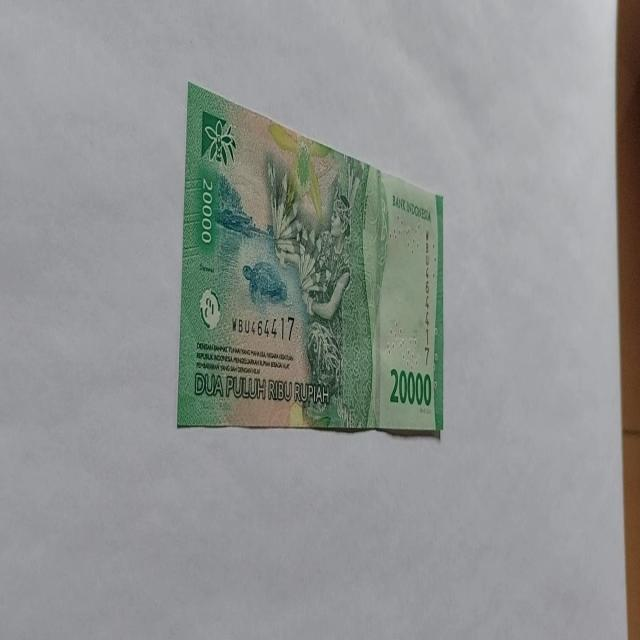dua puluh ribu rupiah: (177, 80, 446, 437)
